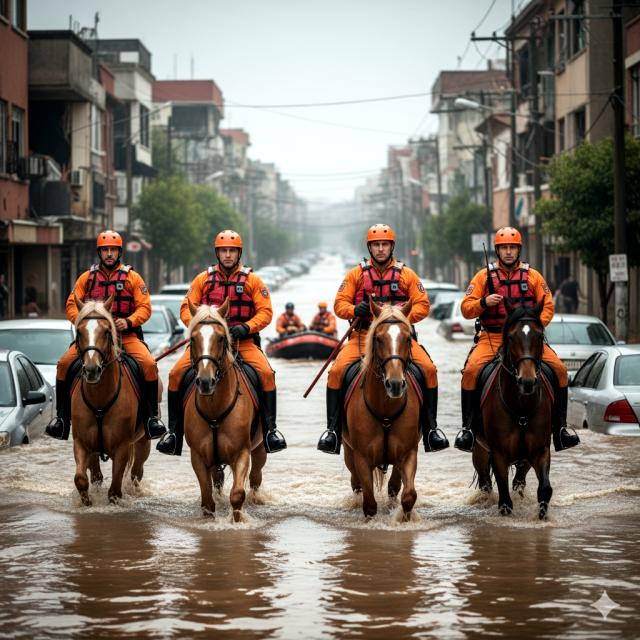horse: (472, 288, 566, 525), (177, 297, 268, 525), (64, 292, 156, 507), (347, 296, 432, 520)
rescuer: (155, 214, 291, 462), (314, 216, 453, 457), (451, 218, 583, 453), (46, 217, 169, 445), (278, 298, 306, 338), (312, 298, 339, 339)
